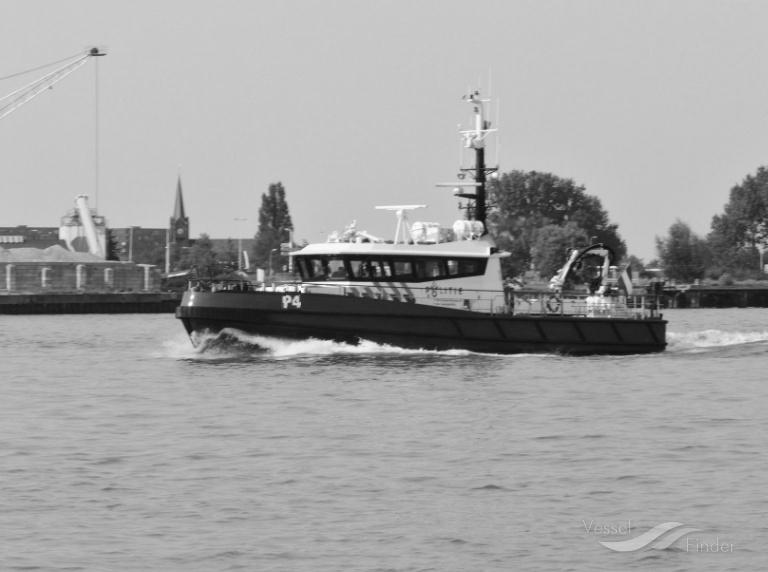OCR: (278, 284, 302, 312)
